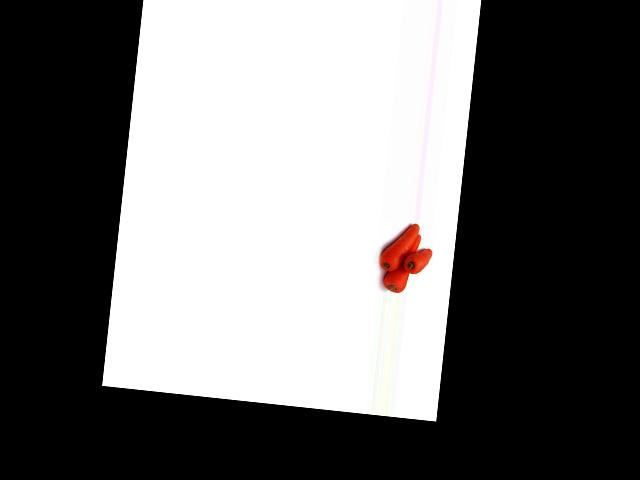carrot: (381, 224, 422, 296)
